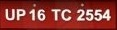character: (60, 8, 72, 21), (4, 8, 15, 20), (50, 8, 61, 20), (75, 8, 85, 21), (36, 7, 45, 21), (93, 8, 102, 21), (16, 8, 25, 20), (102, 8, 111, 20), (85, 8, 93, 21), (28, 8, 35, 21)
